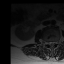CCS_normal: (50, 38, 53, 49)
LFS_normal: (55, 38, 57, 46)
LLS_normal: (52, 38, 55, 47)
RFS_normal: (45, 39, 48, 46)
RLS_normal: (48, 38, 50, 47)
